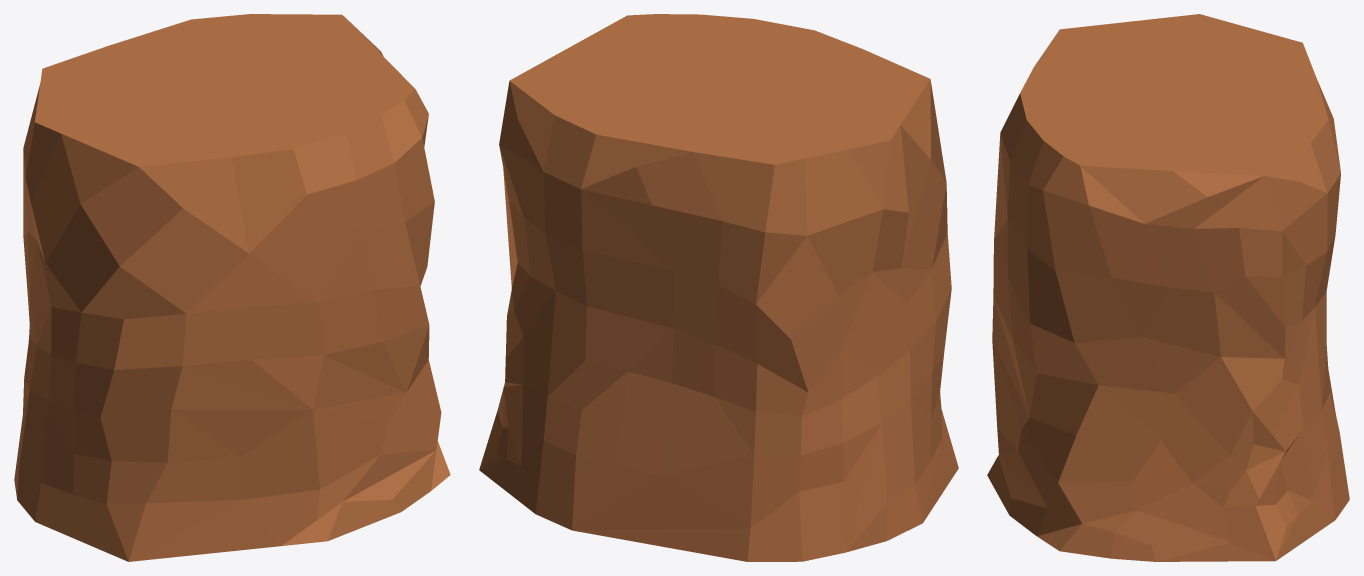
Rendered from Rock1.fbx.
The picture shows the model from 3 angles, left to right: view 1: azimuth 30°, elevation 25°; view 2: azimuth 150°, elevation 25°; view 3: azimuth 270°, elevation 25°; orthographic projection. The views are drawn at different scales.
Parts seen in each view (by area): view 1: Rock1; view 2: Rock1; view 3: Rock1.
Boxes of the visible parts, x1,y1,x2,y2 form: Rock1: (14,14,450,561); Rock1: (479,14,958,561); Rock1: (987,14,1349,561).
Size of the model in its own units: 157 by 151 by 133.
